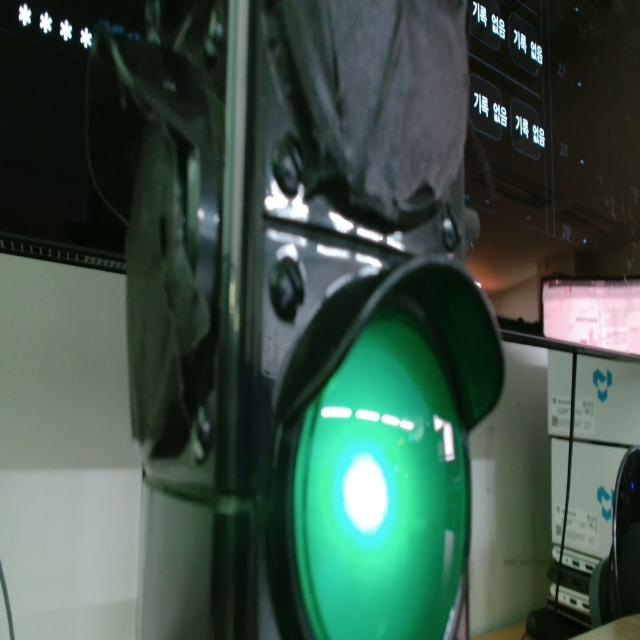green_light: (293, 310, 469, 639), (343, 454, 388, 534)
